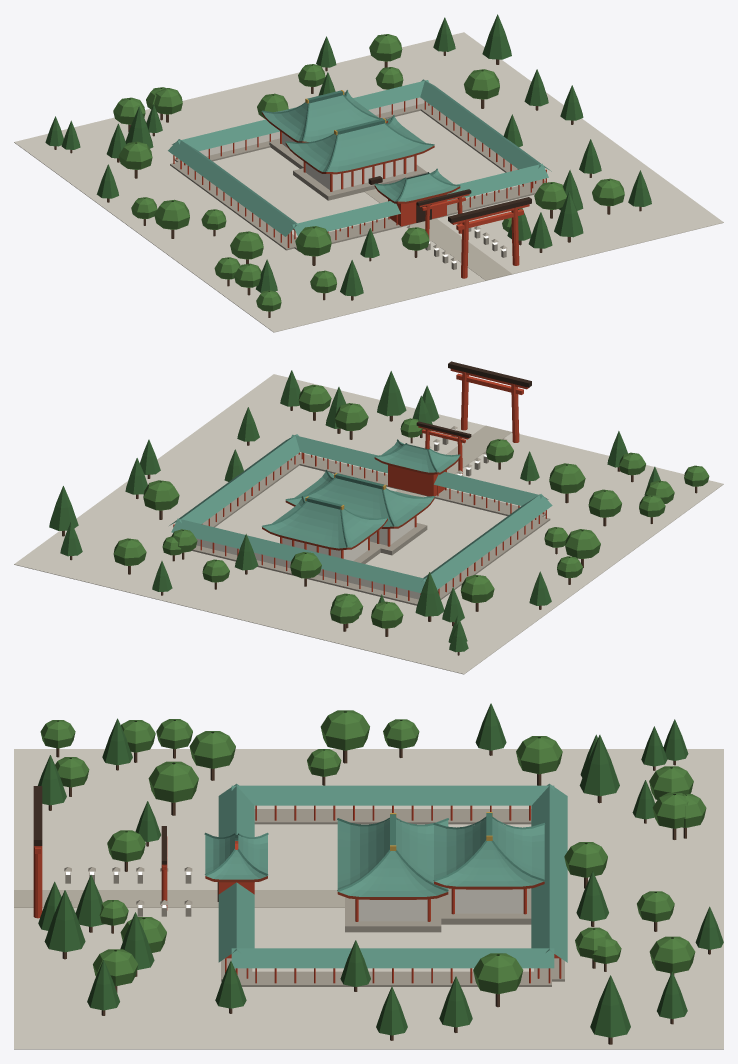
Rendered from grand_shrine.glb.
3 renders of one model, top to bottom at view 1: azimuth 30°, elevation 25°; view 2: azimuth 150°, elevation 25°; view 3: azimuth 270°, elevation 25°, orthographic. The views are drawn at different scales.
Parts seen in each view (by area): view 1: GrandShrine_static; view 2: GrandShrine_static; view 3: GrandShrine_static.
Part boxes in pixels (<box>): GrandShrine_static: <box>14,14,723,332</box>; GrandShrine_static: <box>14,361,723,674</box>; GrandShrine_static: <box>14,703,723,1049</box>.
Size of the model in its own units: 119 by 15.92 by 118.
